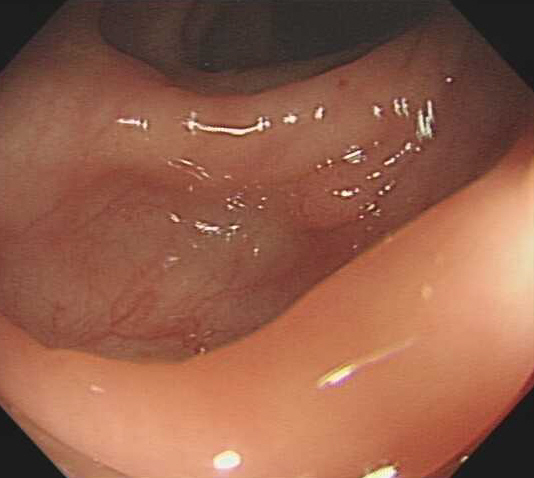adenoma: (289, 161, 386, 229)
